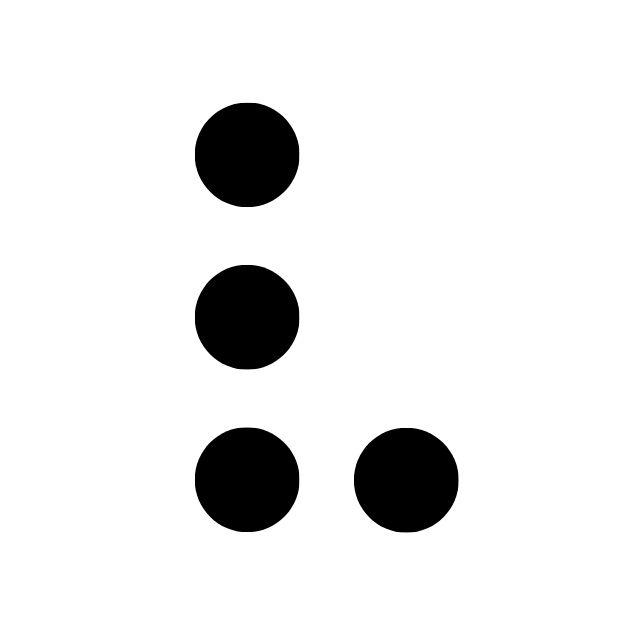bagaman: (195, 102, 461, 531)
